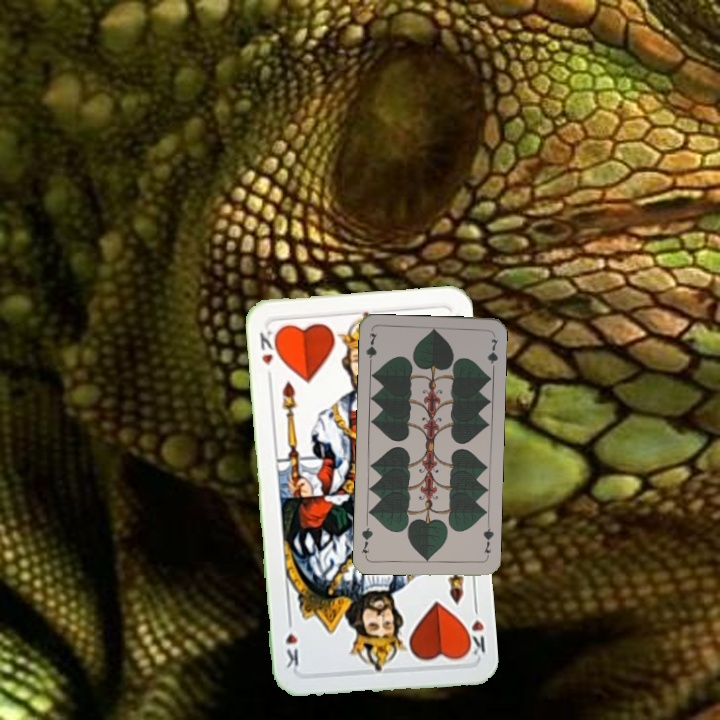G7: (362, 329, 380, 369), (479, 521, 496, 561)
HK: (460, 599, 488, 659), (256, 325, 282, 383)
